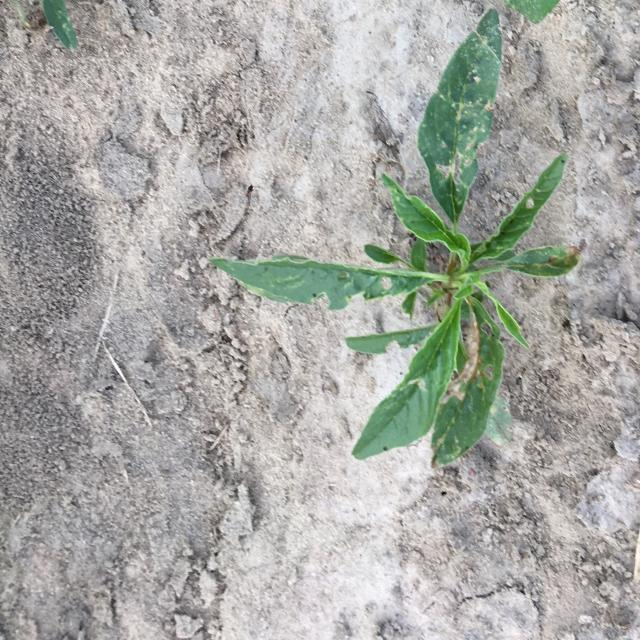Waterhemp: (208, 6, 581, 469)
